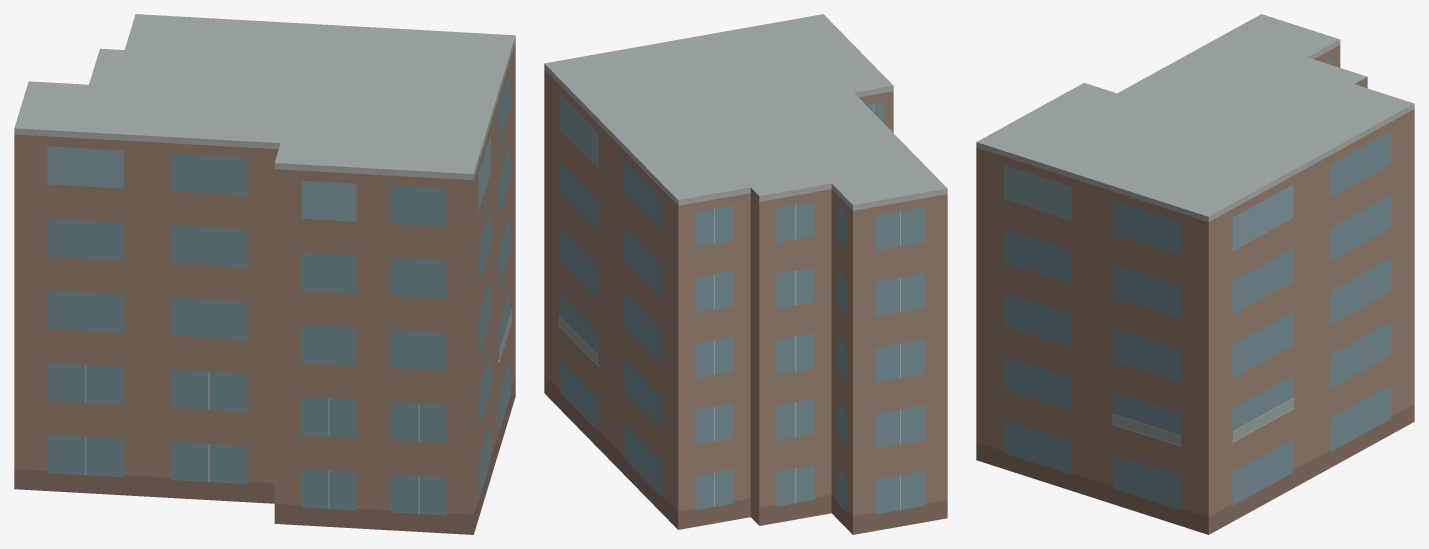
The model's file is survey-upis-32740301.glb.
3 views of the same model, side by side, from view 1: azimuth 30°, elevation 25°; view 2: azimuth 150°, elevation 25°; view 3: azimuth 270°, elevation 25° (orthographic). The views are drawn at different scales.
Parts seen in each view (by area): view 1: survey-upis-32740301.tmp; view 2: survey-upis-32740301.tmp; view 3: survey-upis-32740301.tmp.
Boxes of the visible parts, bbox=[...] form: survey-upis-32740301.tmp: bbox=[14, 14, 515, 534]; survey-upis-32740301.tmp: bbox=[544, 14, 947, 534]; survey-upis-32740301.tmp: bbox=[976, 14, 1414, 534].
Bounding box in the file's own units: 19.56 × 14.3 × 17.87.
